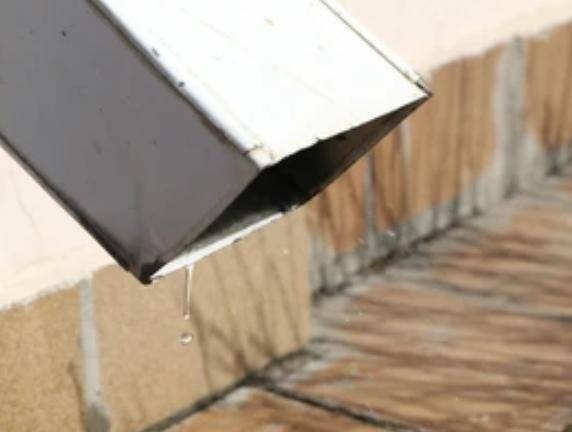water drop: (182, 265, 193, 319), (182, 330, 195, 344)
